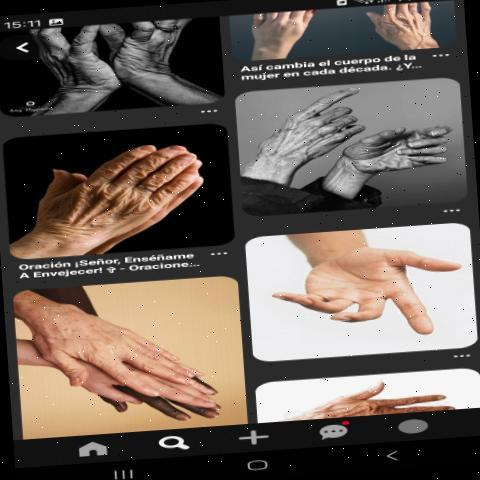Hands: (269, 242, 468, 340), (35, 136, 214, 242), (19, 294, 203, 392), (253, 89, 382, 170), (345, 127, 460, 189)
